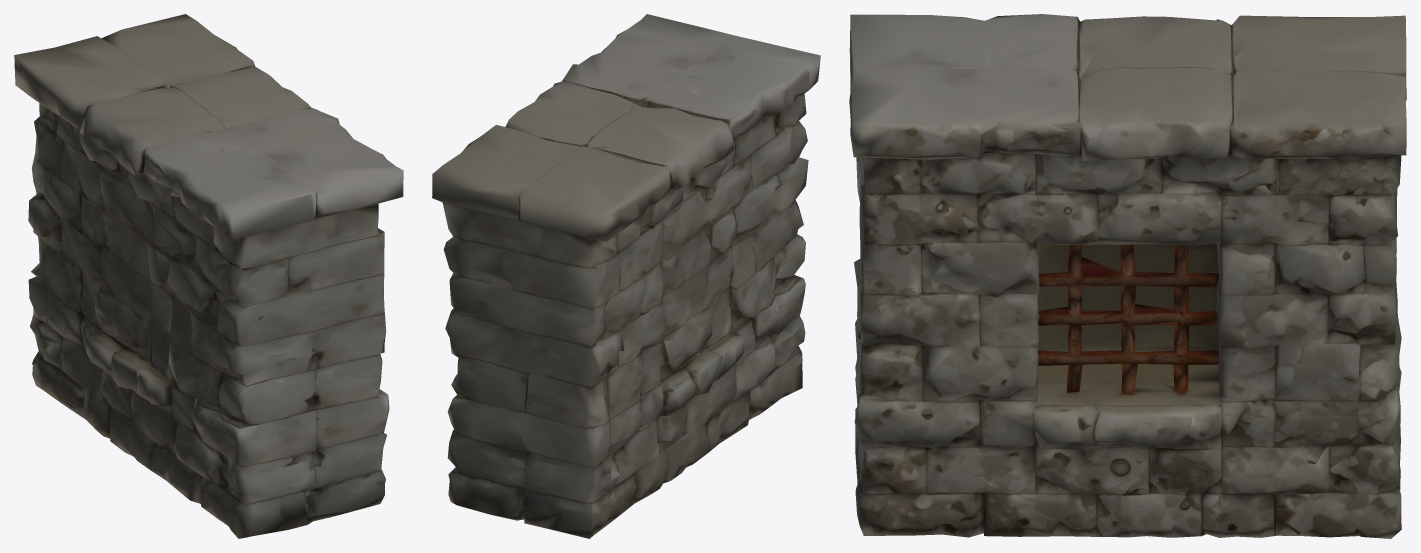
Rendered from wall_window.glb.
3 renders of one model, left to right at view 1: azimuth 30°, elevation 25°; view 2: azimuth 150°, elevation 25°; view 3: azimuth 270°, elevation 25°, orthographic. The views are drawn at different scales.
Parts seen in each view (by area): view 1: tripo_node_50df4bca-2490-4cef-b799-a9d9222e2995; view 2: tripo_node_50df4bca-2490-4cef-b799-a9d9222e2995; view 3: tripo_node_50df4bca-2490-4cef-b799-a9d9222e2995.
Part boxes in pixels (x1,y1,x2,y2): tripo_node_50df4bca-2490-4cef-b799-a9d9222e2995: [14, 14, 403, 538]; tripo_node_50df4bca-2490-4cef-b799-a9d9222e2995: [432, 14, 820, 538]; tripo_node_50df4bca-2490-4cef-b799-a9d9222e2995: [849, 14, 1406, 538].
Bounding box in the file's own units: 0.4942 × 0.8465 × 1.
1 material, 1 textured.
